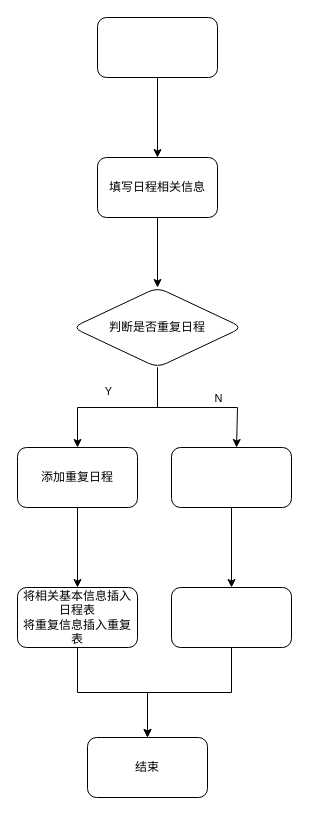
Image size: 309x815. Some labels were removed from this diagram. The centre of each missing label's shape, as x and y in pixels:
将相关基本信息插入日程表: point (231, 617)
开始: point (157, 47)
添加单次日程: point (231, 477)
